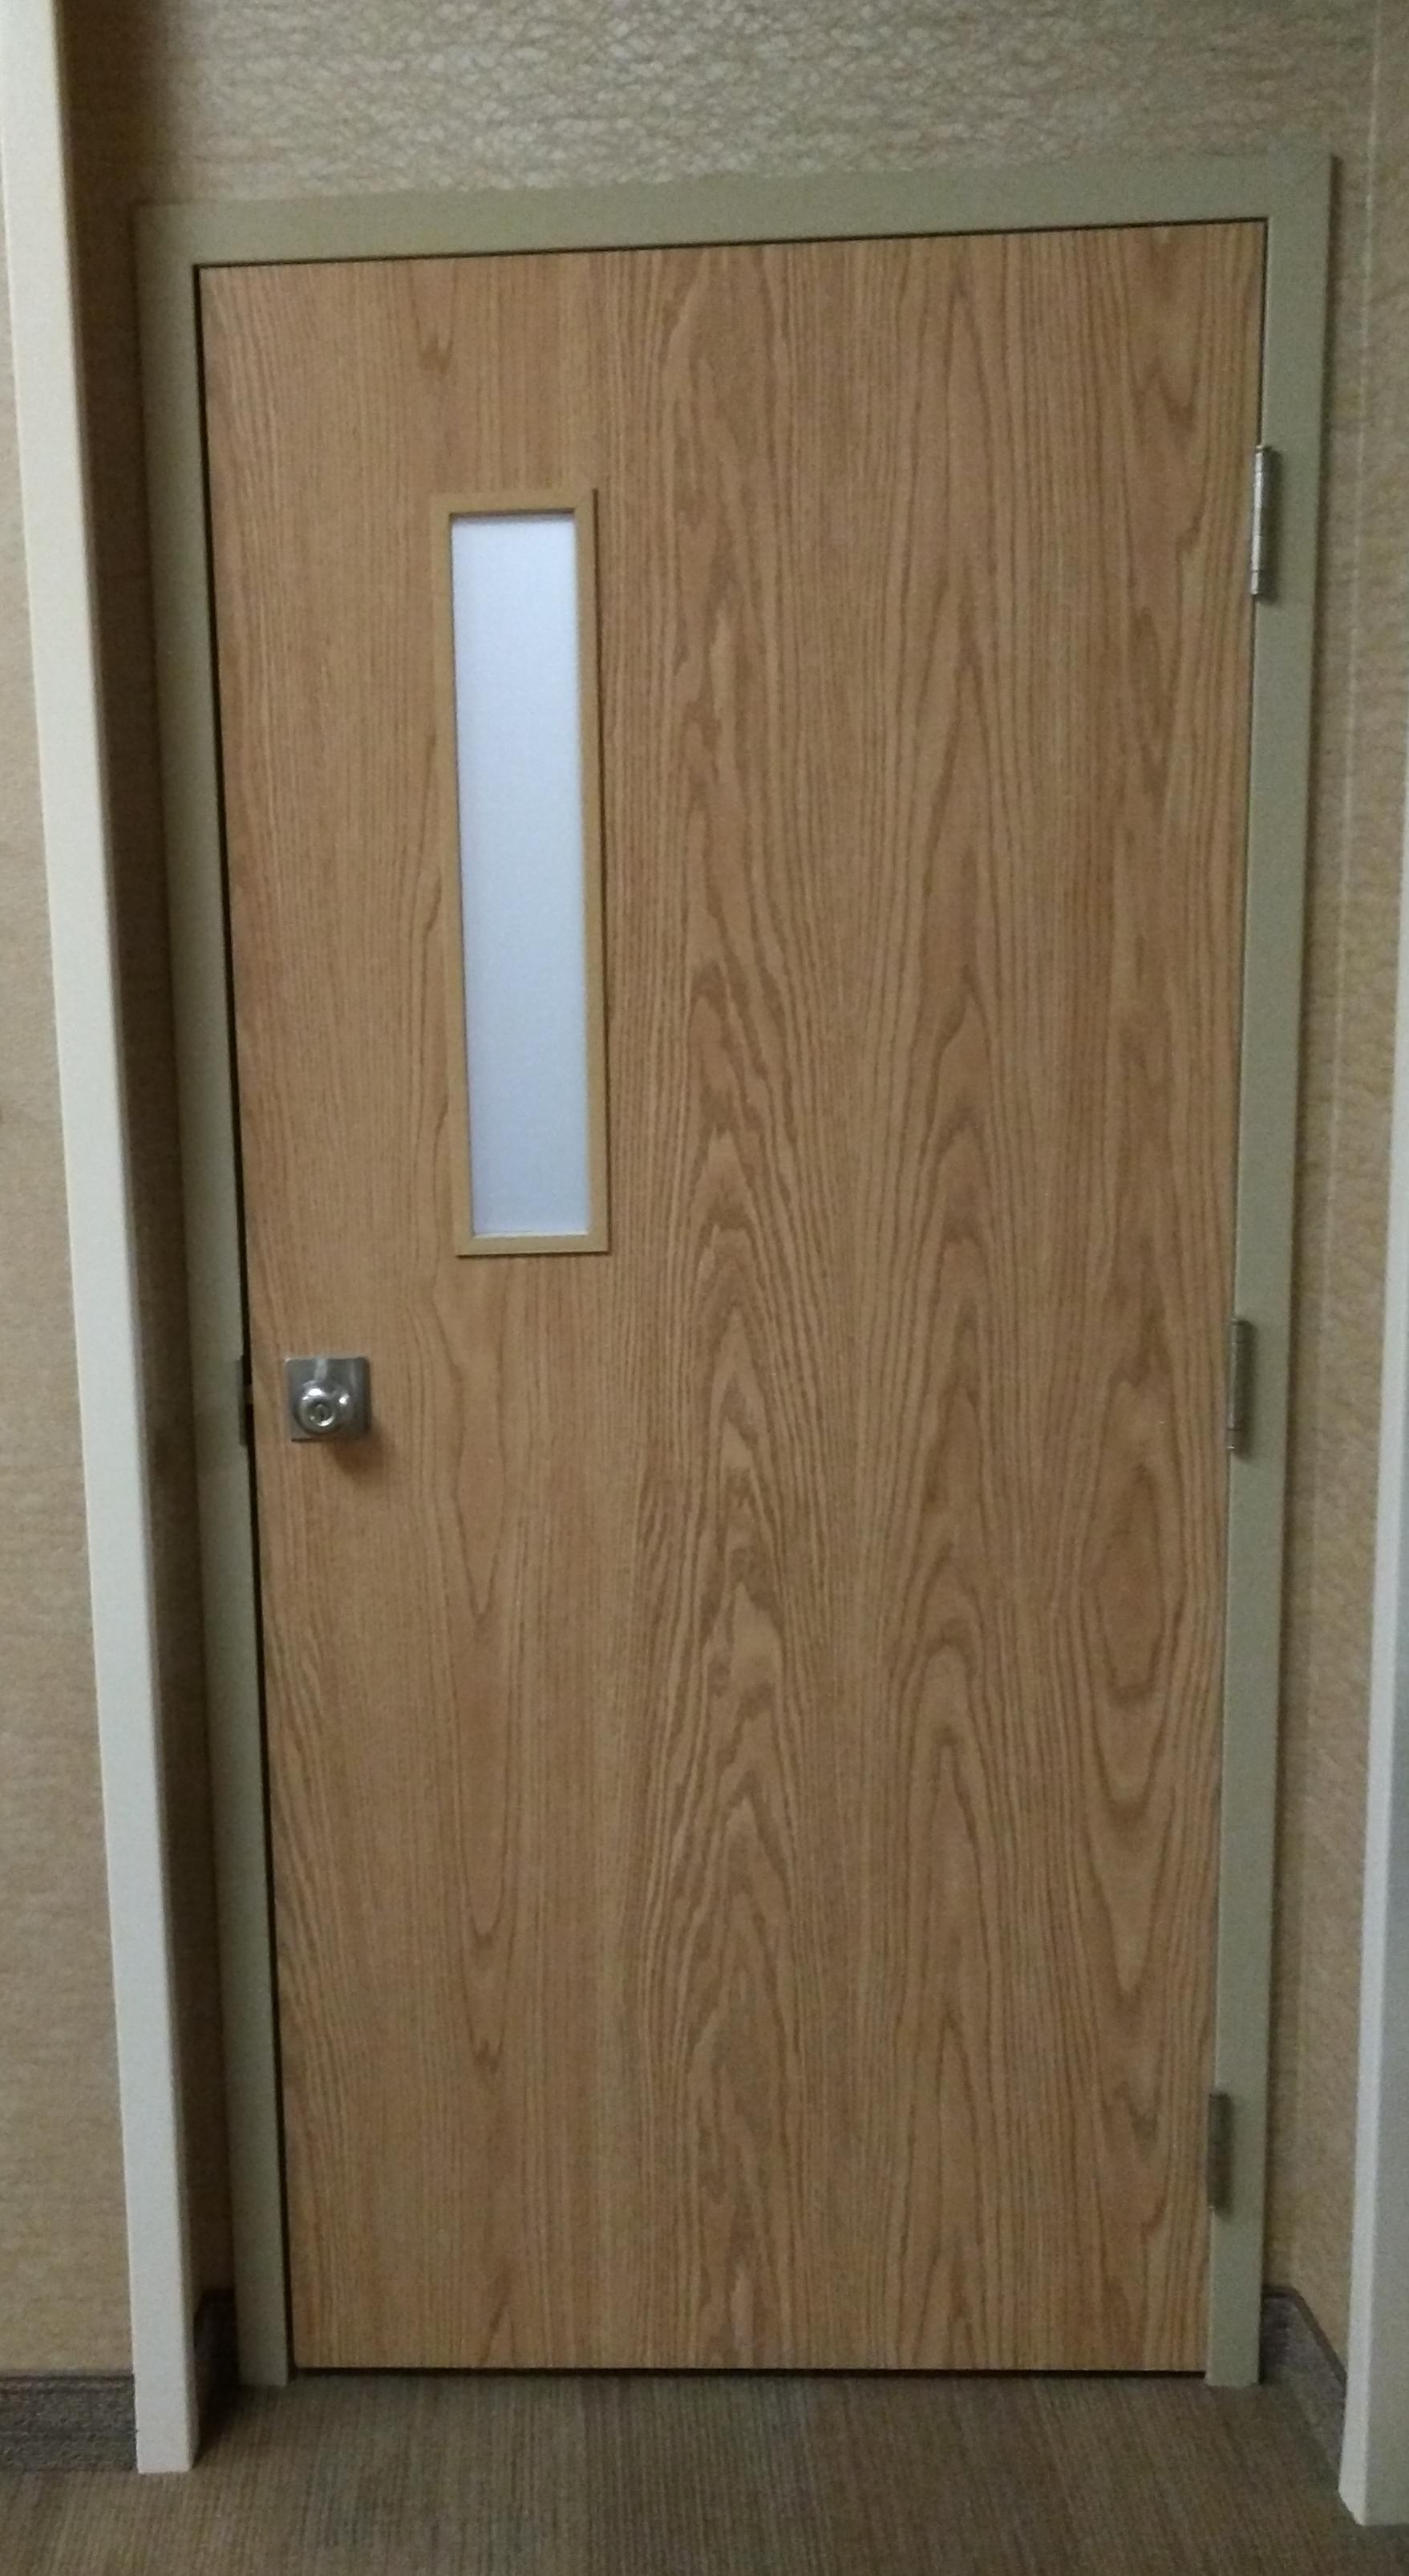handle: (283, 1320, 371, 1468)
